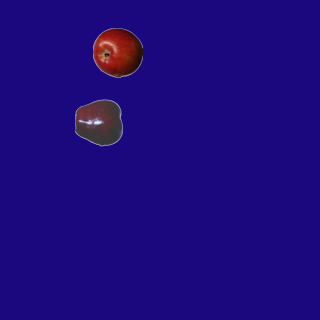Apple Braeburn: (92, 27, 142, 77)
Apple Red Delicious: (74, 97, 124, 147)
